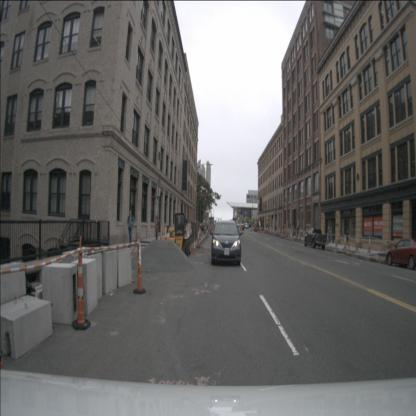human-pedestrian-adult: (127, 209, 135, 249), (345, 229, 349, 248), (328, 226, 332, 244), (296, 224, 300, 238)
movable_object-trafficcone: (72, 236, 91, 330), (134, 233, 146, 294), (192, 238, 197, 255), (196, 230, 200, 248), (355, 234, 359, 250), (329, 239, 333, 252), (368, 236, 371, 253), (347, 240, 350, 256), (344, 234, 347, 249), (335, 232, 338, 246), (378, 251, 381, 263), (326, 233, 329, 244)
vehicle-car: (212, 221, 242, 266), (386, 239, 415, 271), (244, 222, 250, 230)
vehicle-truck: (305, 228, 327, 249)
